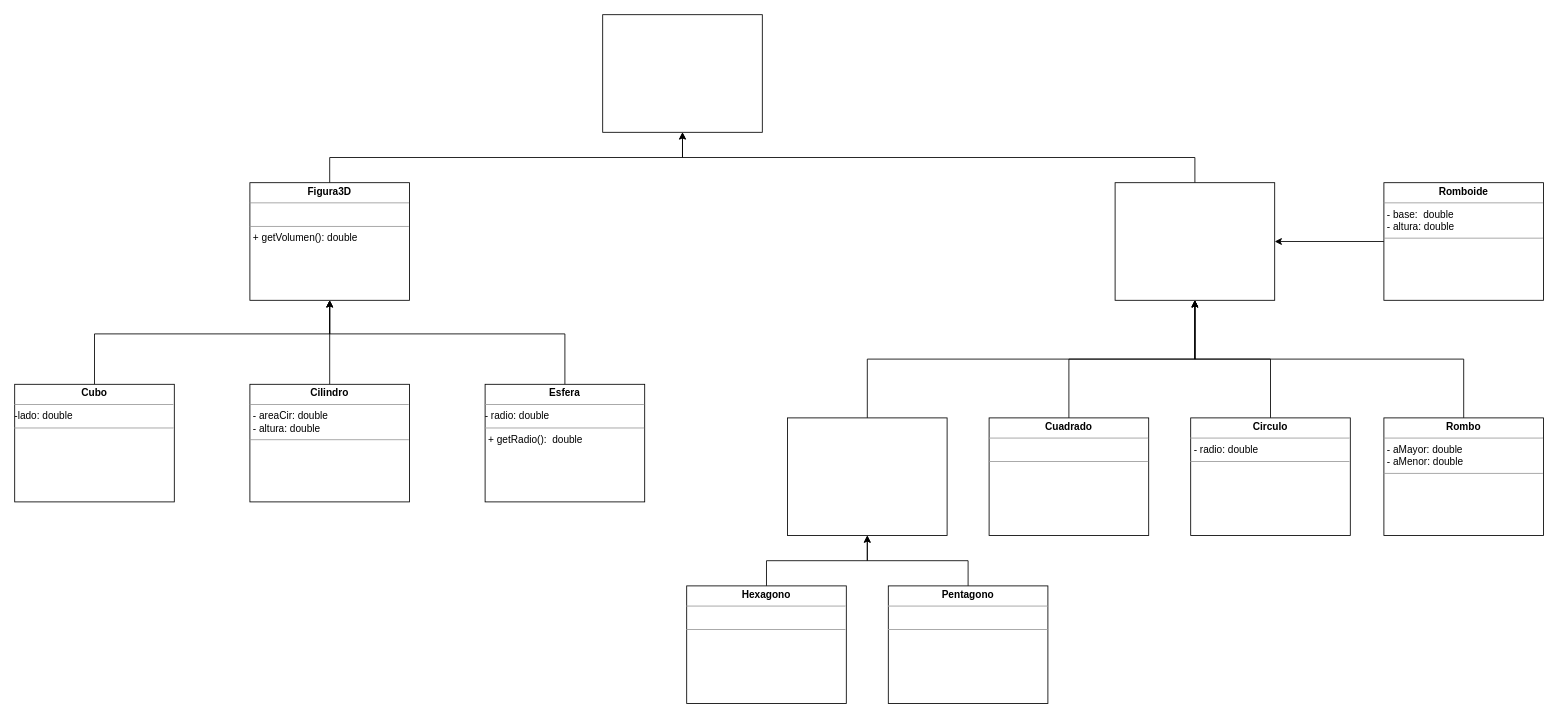
Image size: 1558x718. Some labels were removed from this diagram. The shapes that lost their labels are listed below. From the top down, each one's centre as x and y in pixels, then its label:
the point at 682,73: Figura -nombre: String
the point at 1194,241: Figura2D - lado: double + detArea(): double + getPerimetro(): double
the point at 867,476: Polígono - apot: double - numLados: int
